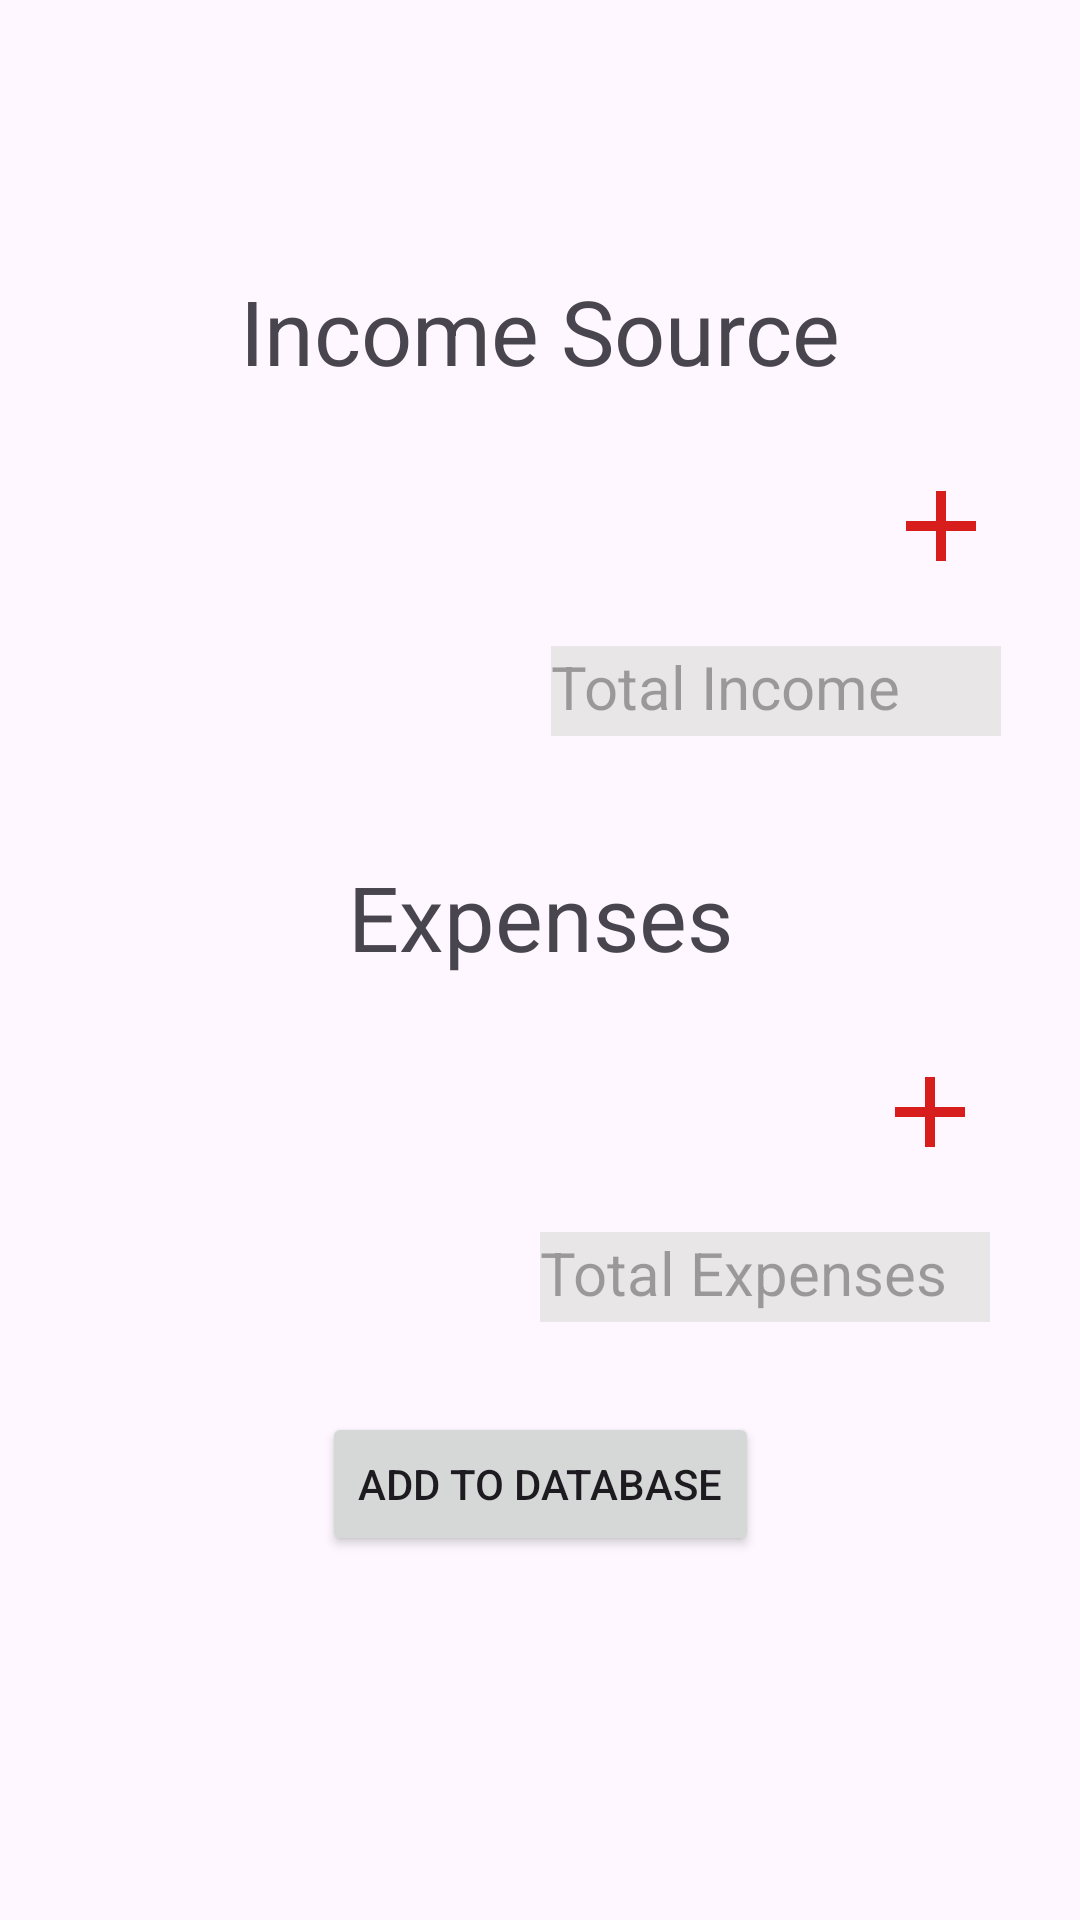

Where to tap for icons on this 1080px×1920px app screen, as (x,y):
add: (941,526), (930,1112)
